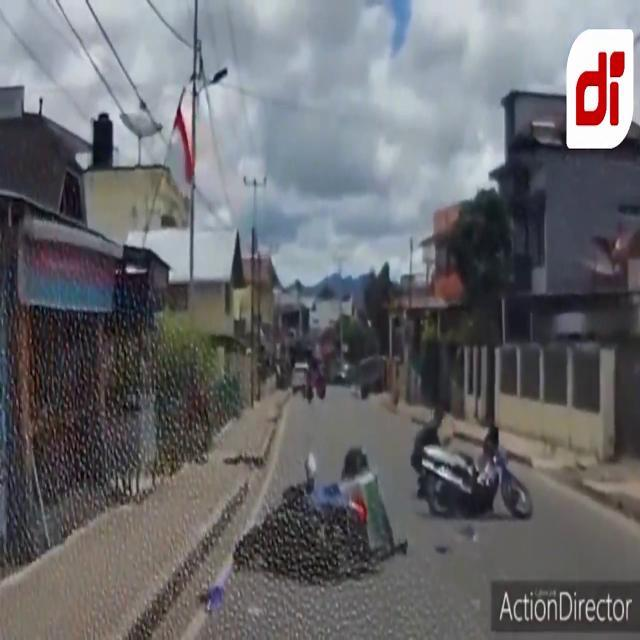multiple_accident: (249, 416, 522, 568)
